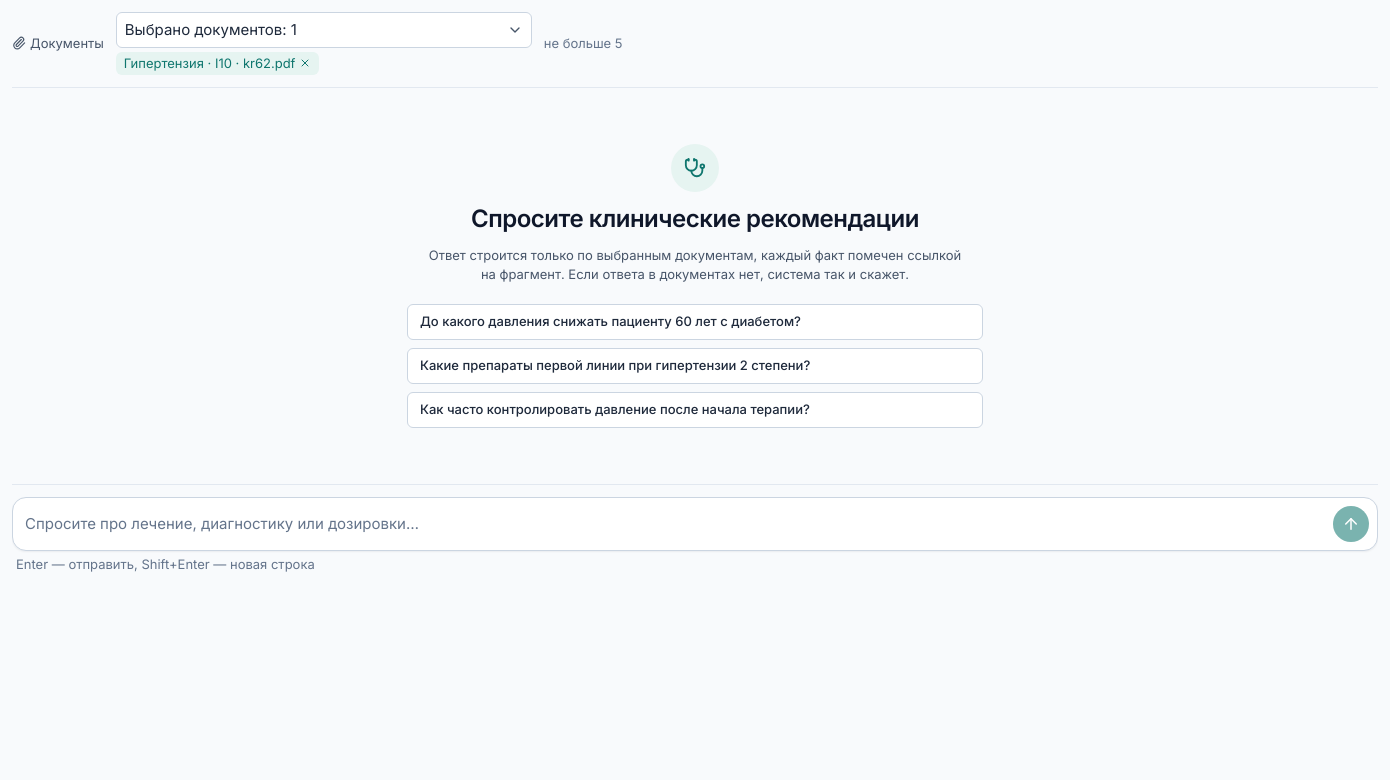
Test: ChatPage › отправляет вопрос и показывает пару реплик
Type "до какого давления снижать пациенту 60 лет?" into the text box named "Вопрос по клинрекам" at [673, 524], box [21,506,1325,542]
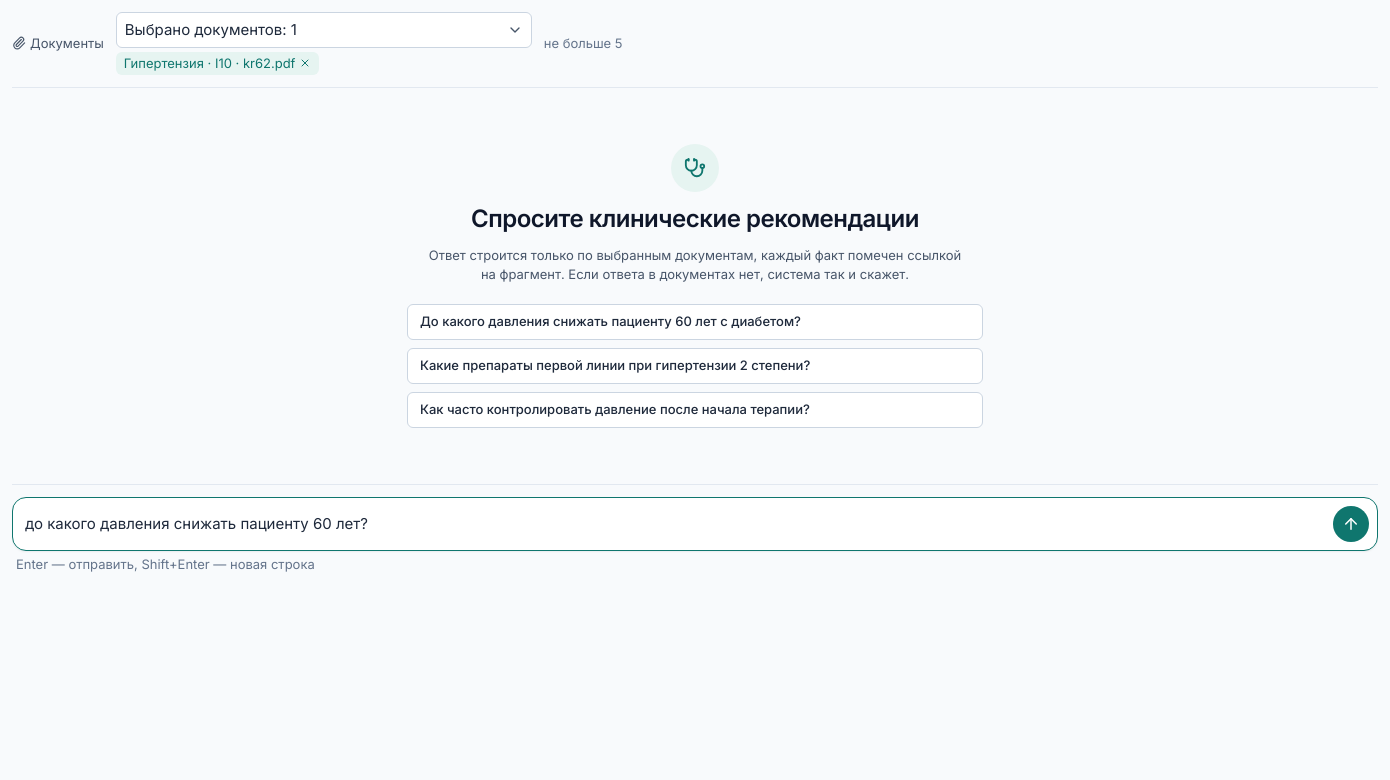
Click the button named "Отправить" at [1351, 524], box [1333,506,1369,542]
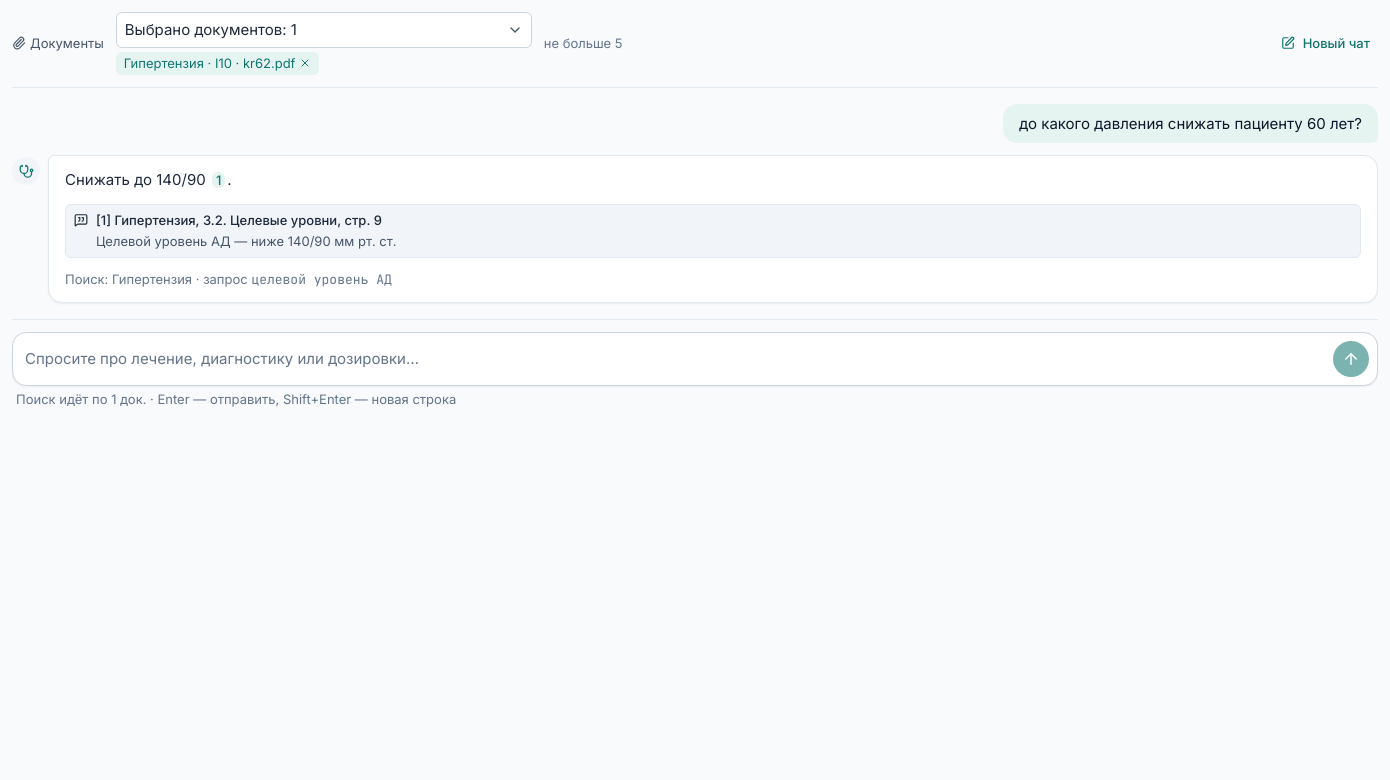
Check: the text "Снижать до 140/90 1 ." is shown, box [65,170,232,189]
Check: the text "до какого давления снижать пациенту 60 лет?" is shown, box [1003,104,1378,143]
